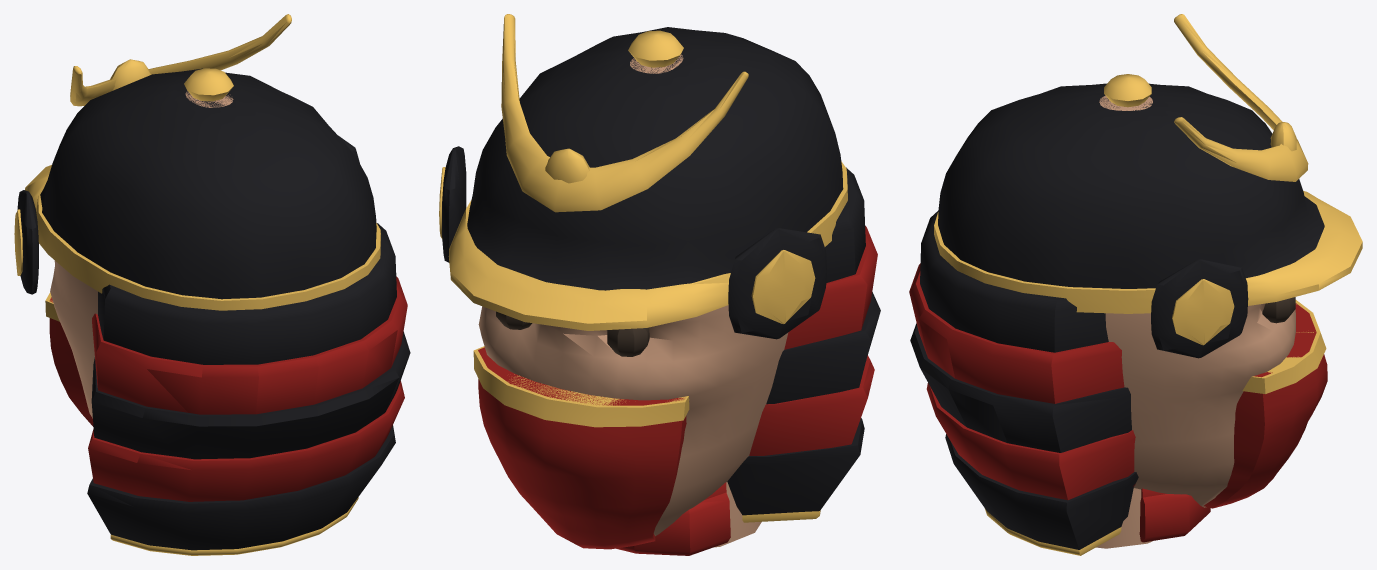
Rendered from head.glb.
3 renders of one model, left to right at view 1: azimuth 30°, elevation 25°; view 2: azimuth 150°, elevation 25°; view 3: azimuth 270°, elevation 25°, orthographic. The views are drawn at different scales.
Visible parts, largest first — view 1: OUT; view 2: OUT; view 3: OUT.
Part boxes in pixels (x1,y1,x2,y2): OUT: (14,14,410,555); OUT: (439,14,880,555); OUT: (909,14,1362,555).
Bounding box in the file's own units: 0.2144 × 0.2742 × 0.2534.
